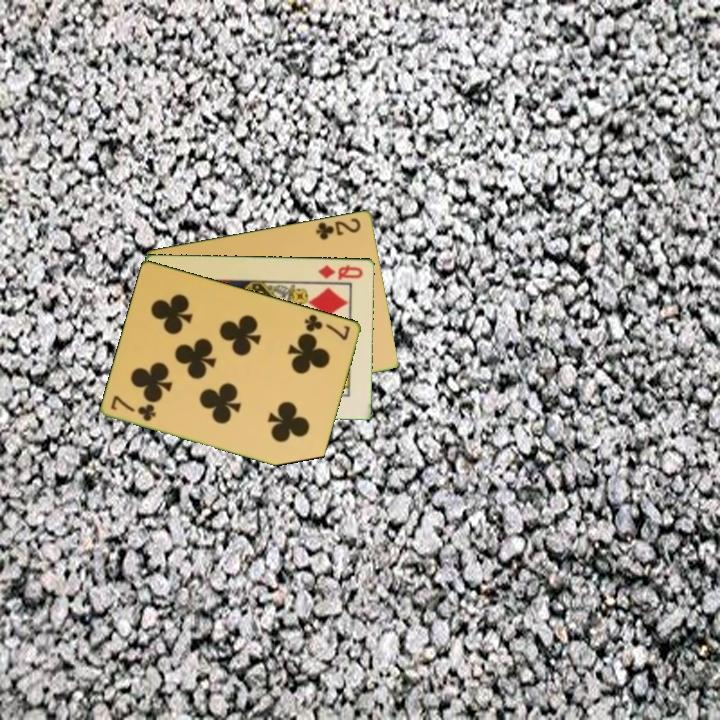2c: (312, 214, 364, 242)
7c: (301, 311, 353, 343), (107, 392, 159, 424)
Qd: (315, 261, 366, 282)
